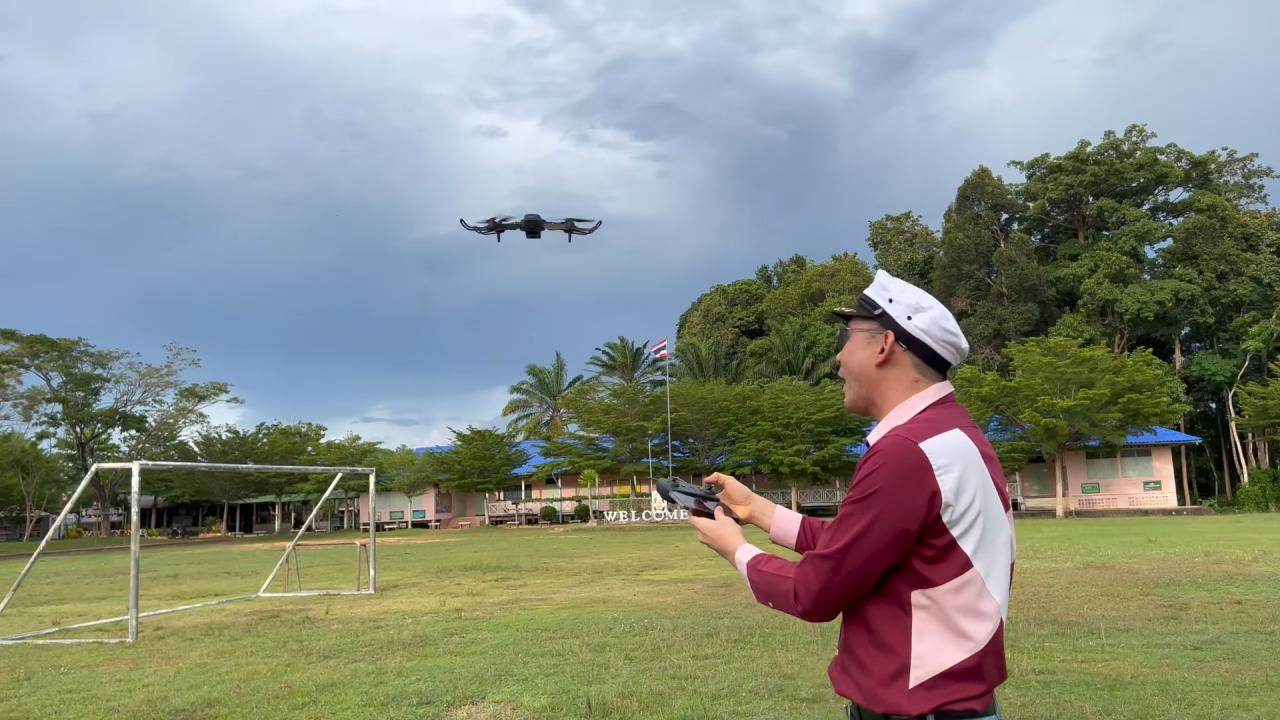Drone: (446, 192, 618, 257)
